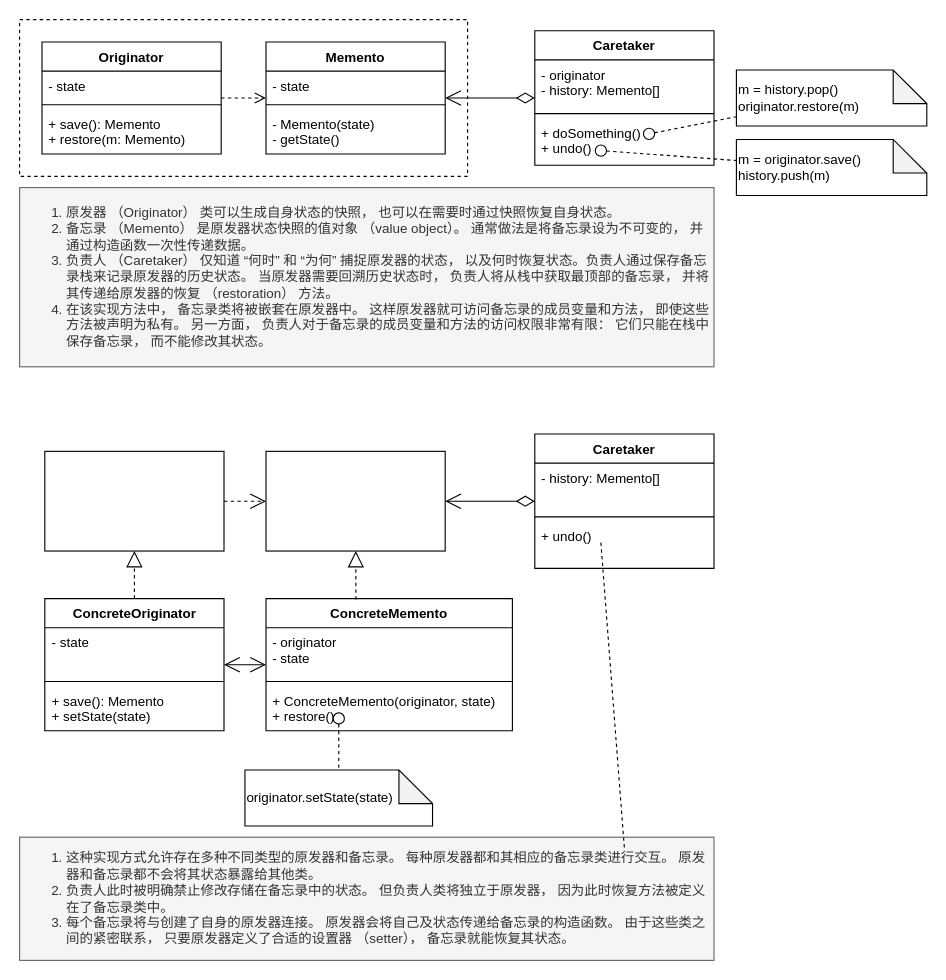
Some shapes in this 946 by 980 pixel diagram are drawn without their labels. Each missing label, with the centre of its shape:
"<<Interface>> Memento + restore()" belongs at point (355, 500).
"<<Interface>> Originator + save(): Memento" belongs at point (134, 500).
